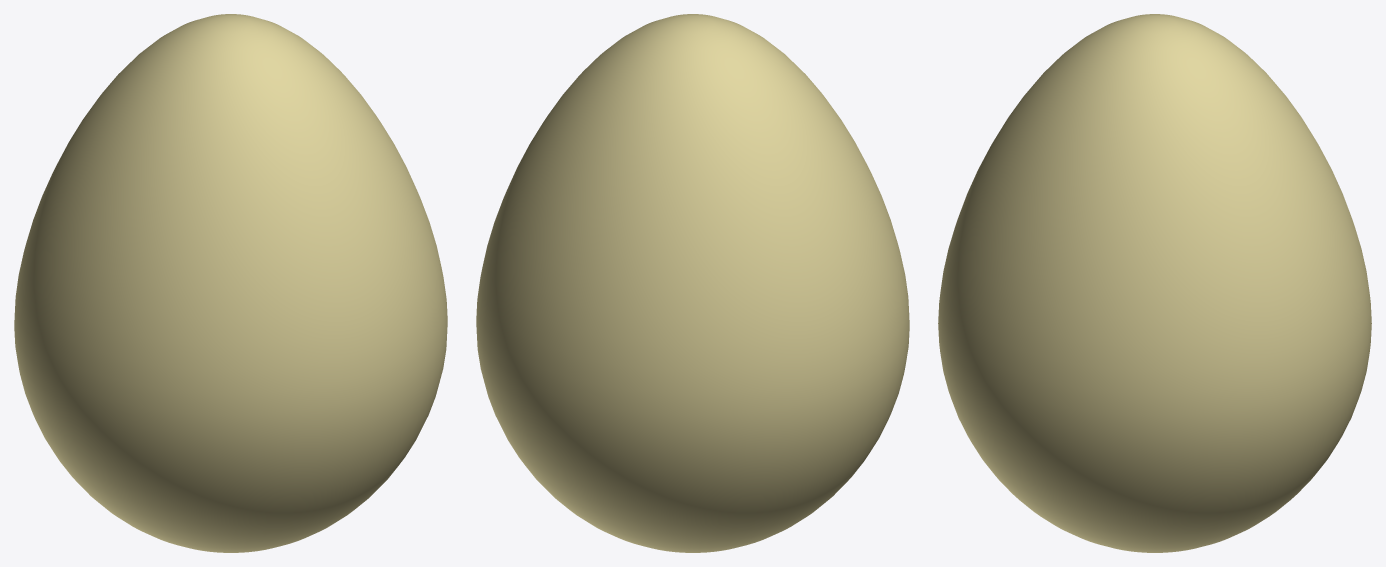
Rendered from shell2.glb.
3 renders of one model, left to right at view 1: azimuth 30°, elevation 25°; view 2: azimuth 150°, elevation 25°; view 3: azimuth 270°, elevation 25°, orthographic.
Visible parts, largest first — view 1: Sphere; view 2: Sphere; view 3: Sphere.
Part boxes in pixels (x1=…): Sphere: x1=14, y1=14, x2=447, y2=552; Sphere: x1=476, y1=14, x2=909, y2=552; Sphere: x1=938, y1=14, x2=1371, y2=552.
Size of the model in its own units: 2 by 2.61 by 2.
